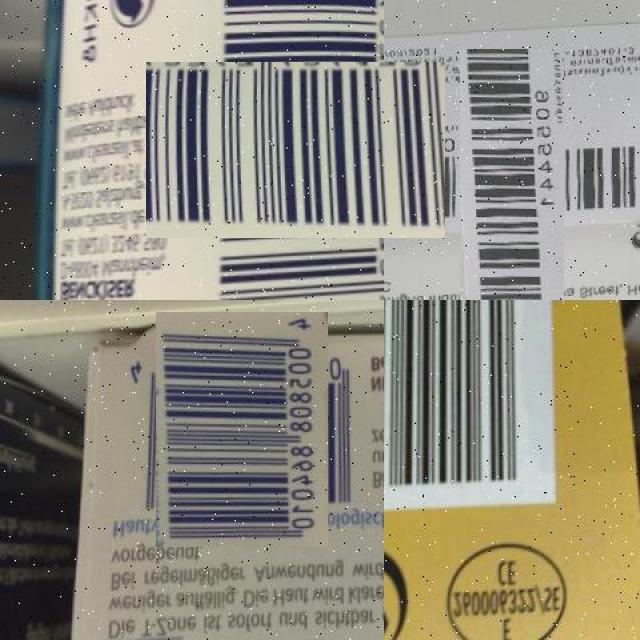Barcode: (177, 31, 415, 269), (140, 328, 343, 532), (384, 300, 563, 516), (422, 86, 602, 266)
